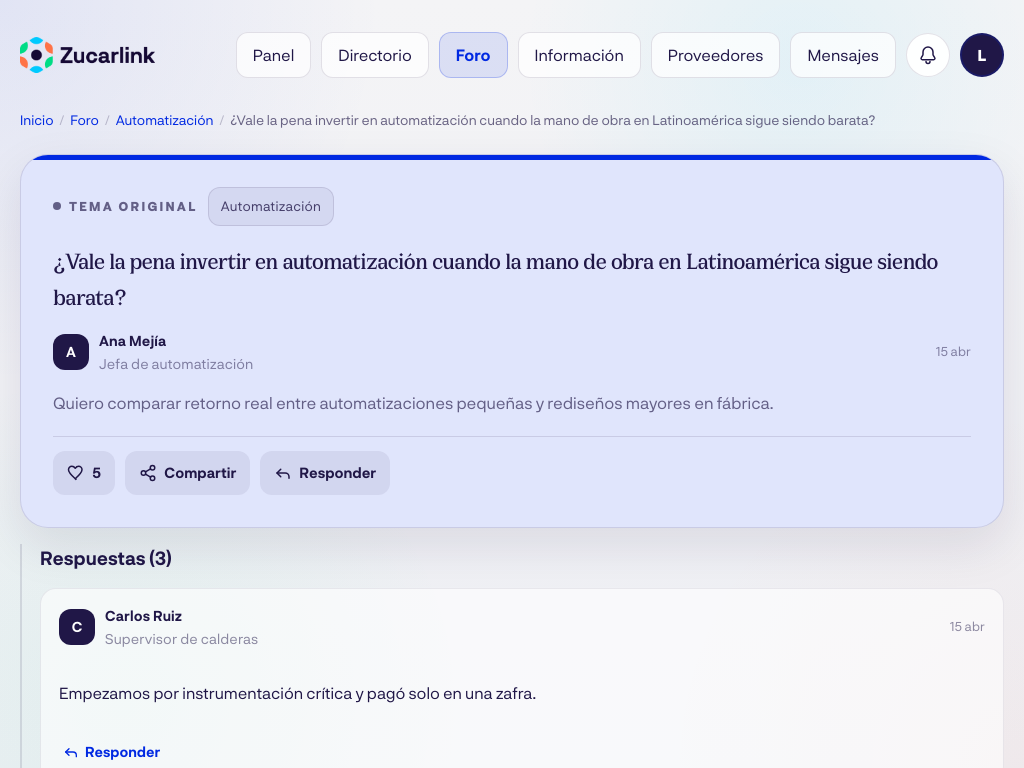
lets an authenticated member like and unlike the thread
Click the button named "Me gusta": (84, 473) [53,451,115,495]
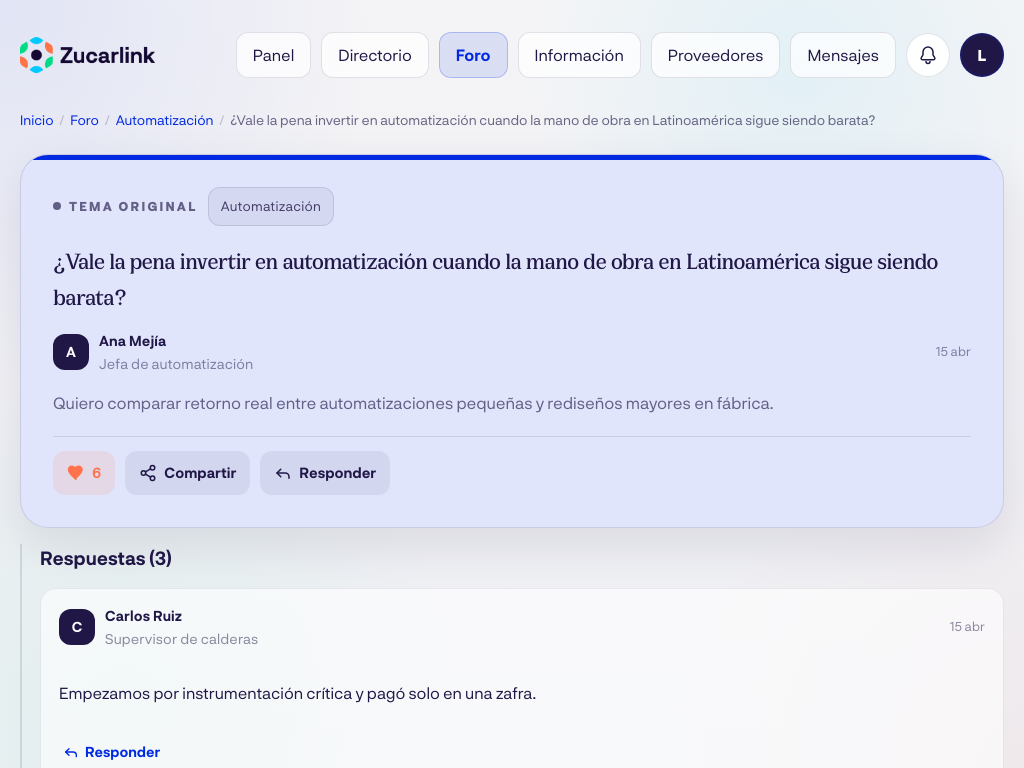
Now the button named "Quitar me gusta" reads "6"
Click the button named "Quitar me gusta": (84, 473) [53,451,115,495]
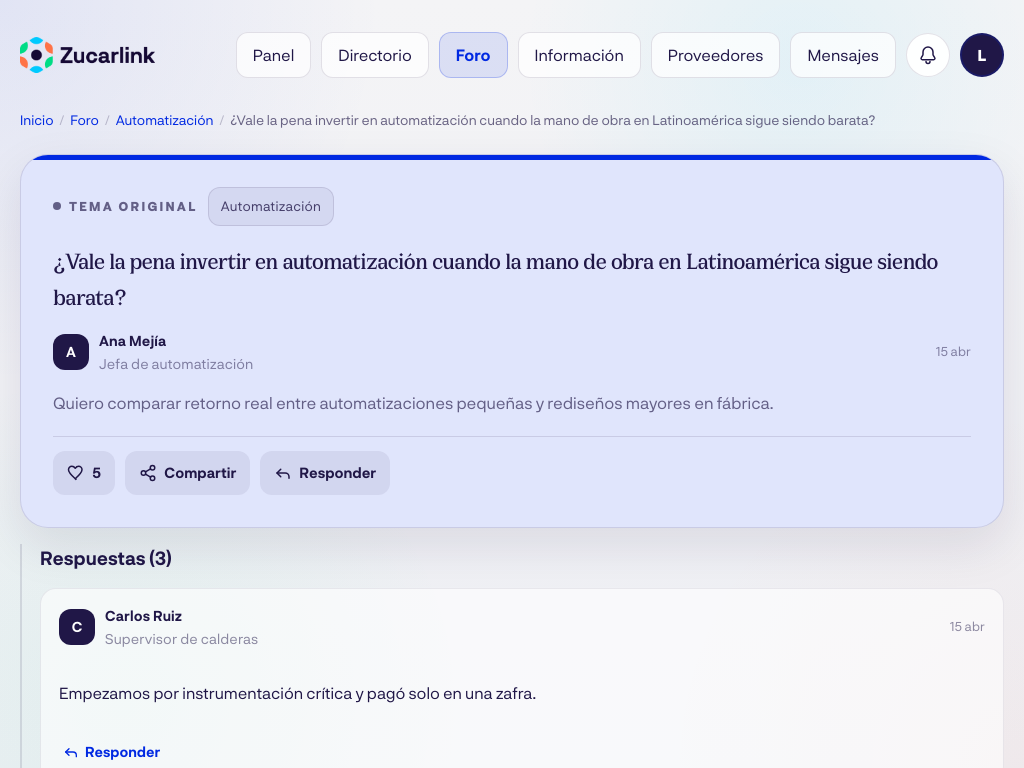
Now the button named "Me gusta" reads "5", box [53,451,115,495]
